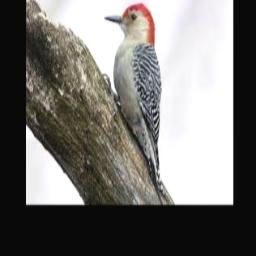Woodpecker: (105, 3, 173, 204)
